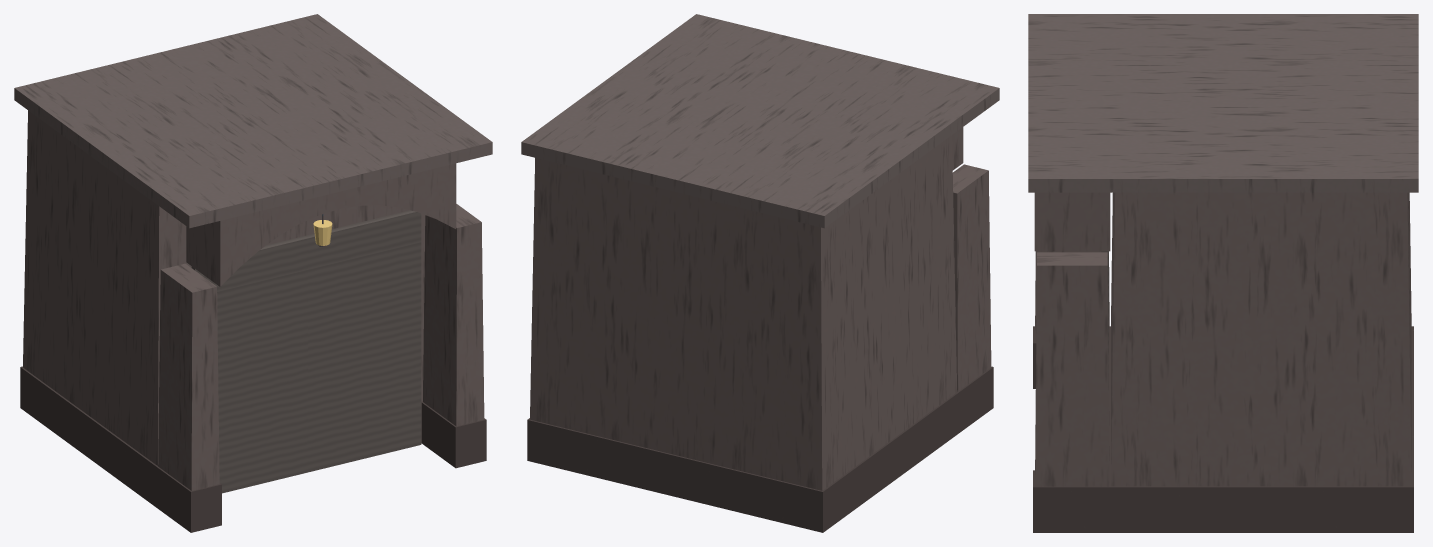
File: SM_Souq_Stall_W3D30H30.fbx
3 renders of one model, left to right at view 1: azimuth 30°, elevation 25°; view 2: azimuth 150°, elevation 25°; view 3: azimuth 270°, elevation 25°, orthographic. The views are drawn at different scales.
Parts seen in each view (by area): view 1: SM_Souq_Stall_W3D30H30; view 2: SM_Souq_Stall_W3D30H30; view 3: SM_Souq_Stall_W3D30H30.
Part boxes in pixels (left/top/right/bottom): SM_Souq_Stall_W3D30H30: left=14, top=14, right=492, bottom=532; SM_Souq_Stall_W3D30H30: left=521, top=14, right=999, bottom=532; SM_Souq_Stall_W3D30H30: left=1028, top=14, right=1418, bottom=532.
Bounding box in the file's own units: 310 × 312 × 310.
6 materials, 6 textured.
